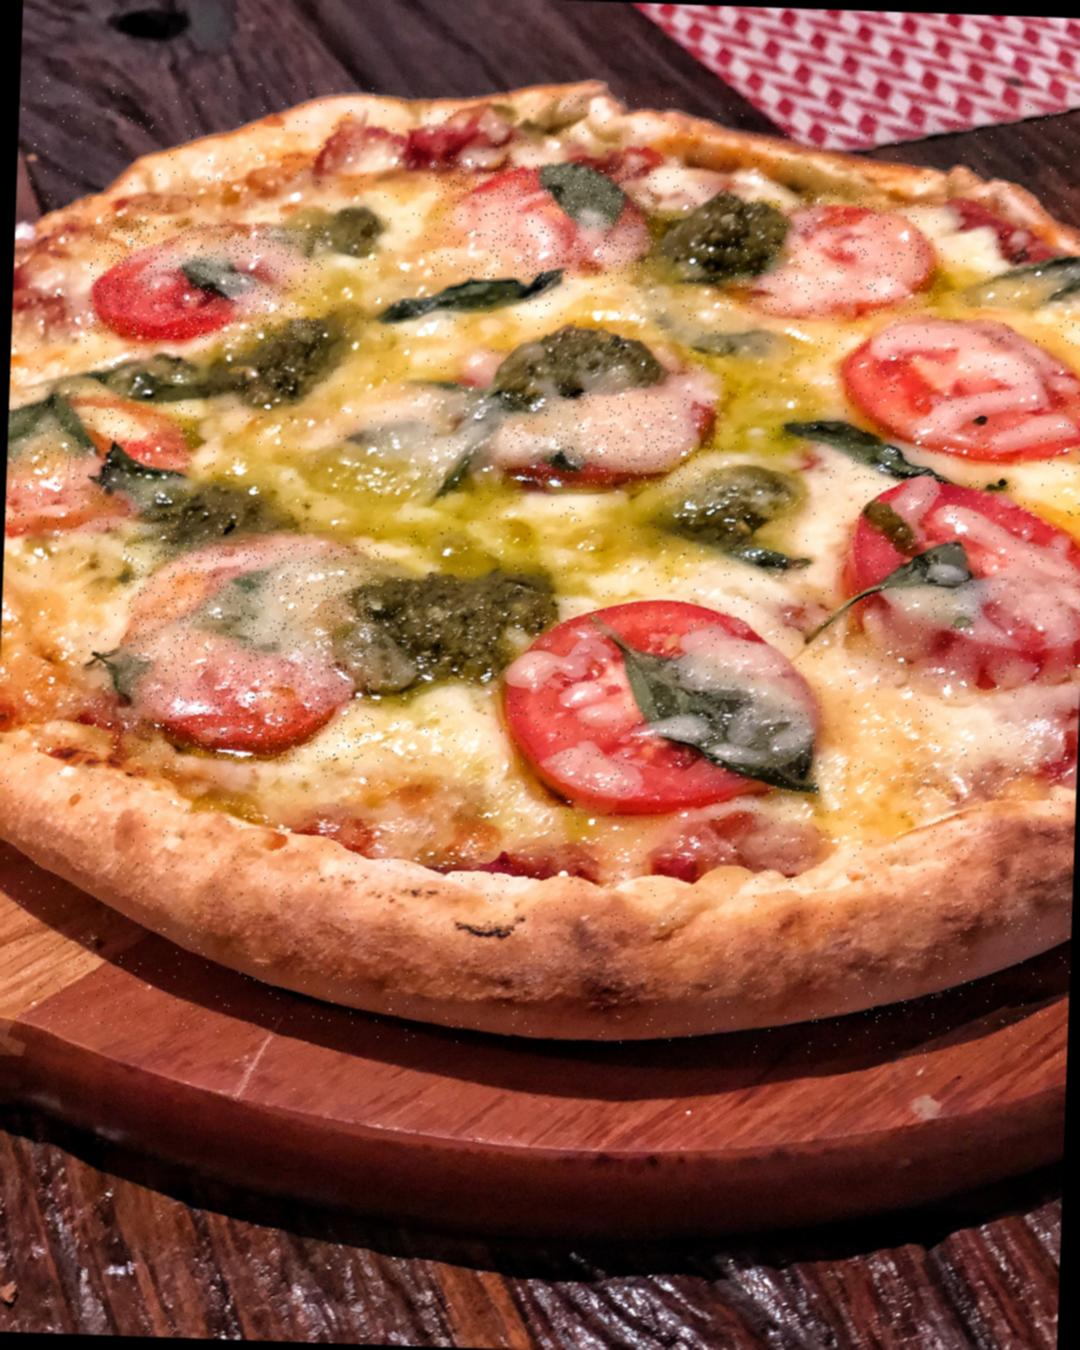Pizza: (0, 69, 1080, 1063)
Tomatoes: (500, 593, 827, 831), (117, 538, 381, 765), (844, 476, 1080, 685), (836, 316, 1080, 465), (88, 218, 324, 345), (426, 159, 660, 282), (4, 395, 197, 540), (724, 195, 941, 320), (498, 392, 721, 492)
